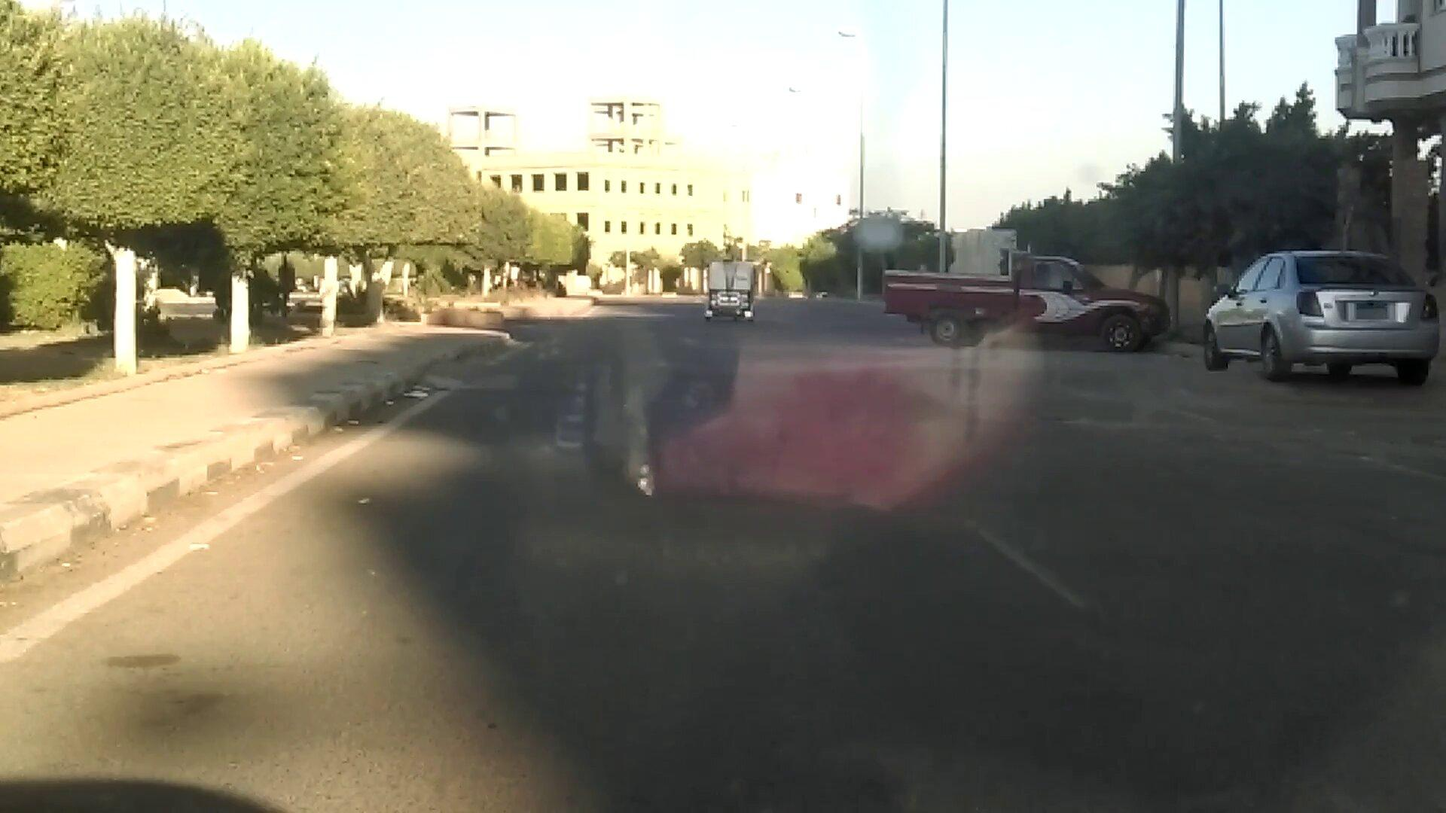Bump: (411, 354, 1324, 436)
